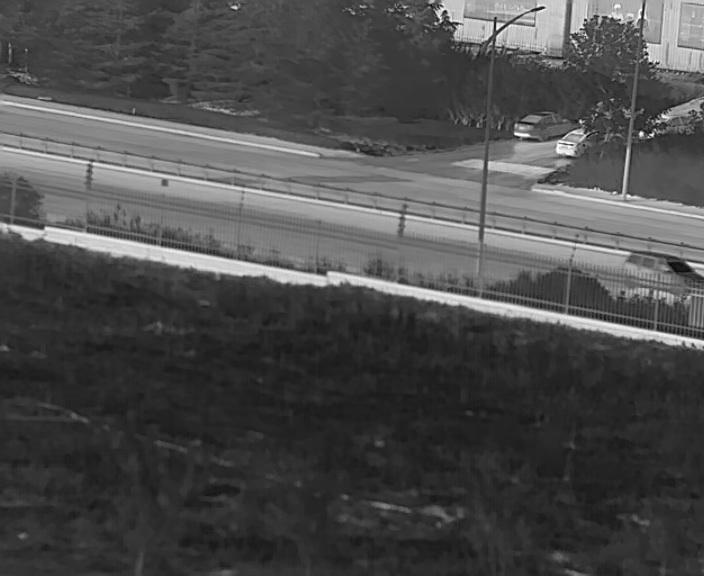vehicle: (616, 250, 704, 294), (513, 110, 565, 143), (552, 126, 591, 154)
